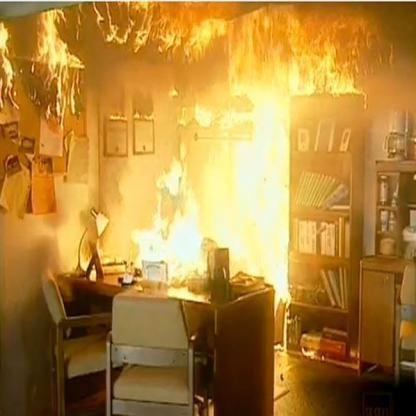fire: (0, 5, 406, 258)
